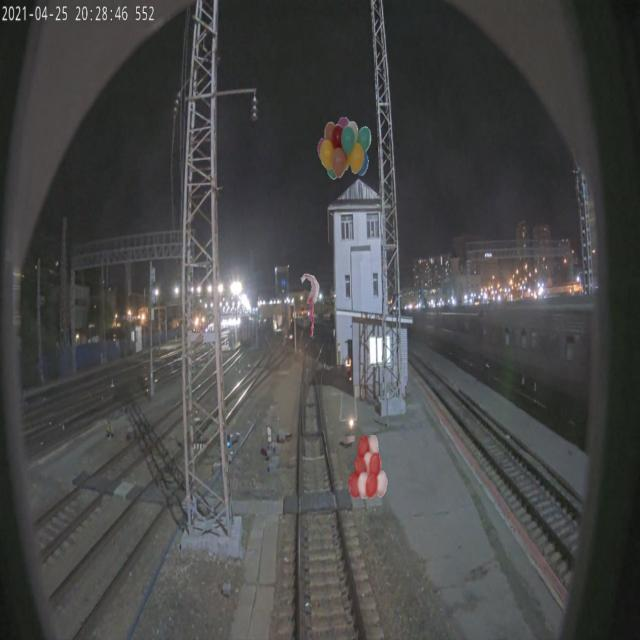balloon: (317, 116, 371, 180), (349, 434, 387, 498)
floating object: (300, 272, 320, 336)
